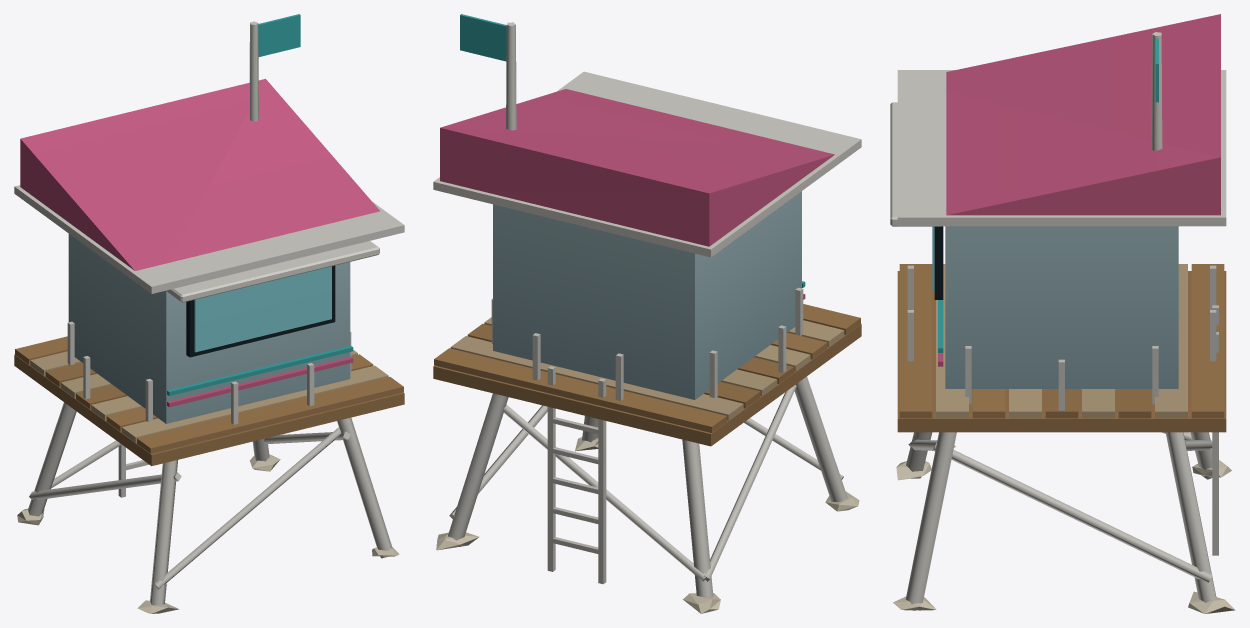
The model's file is pastel-lifeguard-tower.glb.
The picture shows the model from 3 angles, left to right: view 1: azimuth 30°, elevation 25°; view 2: azimuth 150°, elevation 25°; view 3: azimuth 270°, elevation 25°; orthographic projection. The views are drawn at different scales.
Parts seen in each view (by area): view 1: pastel_lifeguard_tower; view 2: pastel_lifeguard_tower; view 3: pastel_lifeguard_tower.
Part boxes in pixels (x1,y1,x2,y2): pastel_lifeguard_tower: [14, 14, 404, 613]; pastel_lifeguard_tower: [433, 14, 861, 613]; pastel_lifeguard_tower: [890, 14, 1235, 613].
Bounding box in the file's own units: 2.81 × 4.77 × 2.67.
